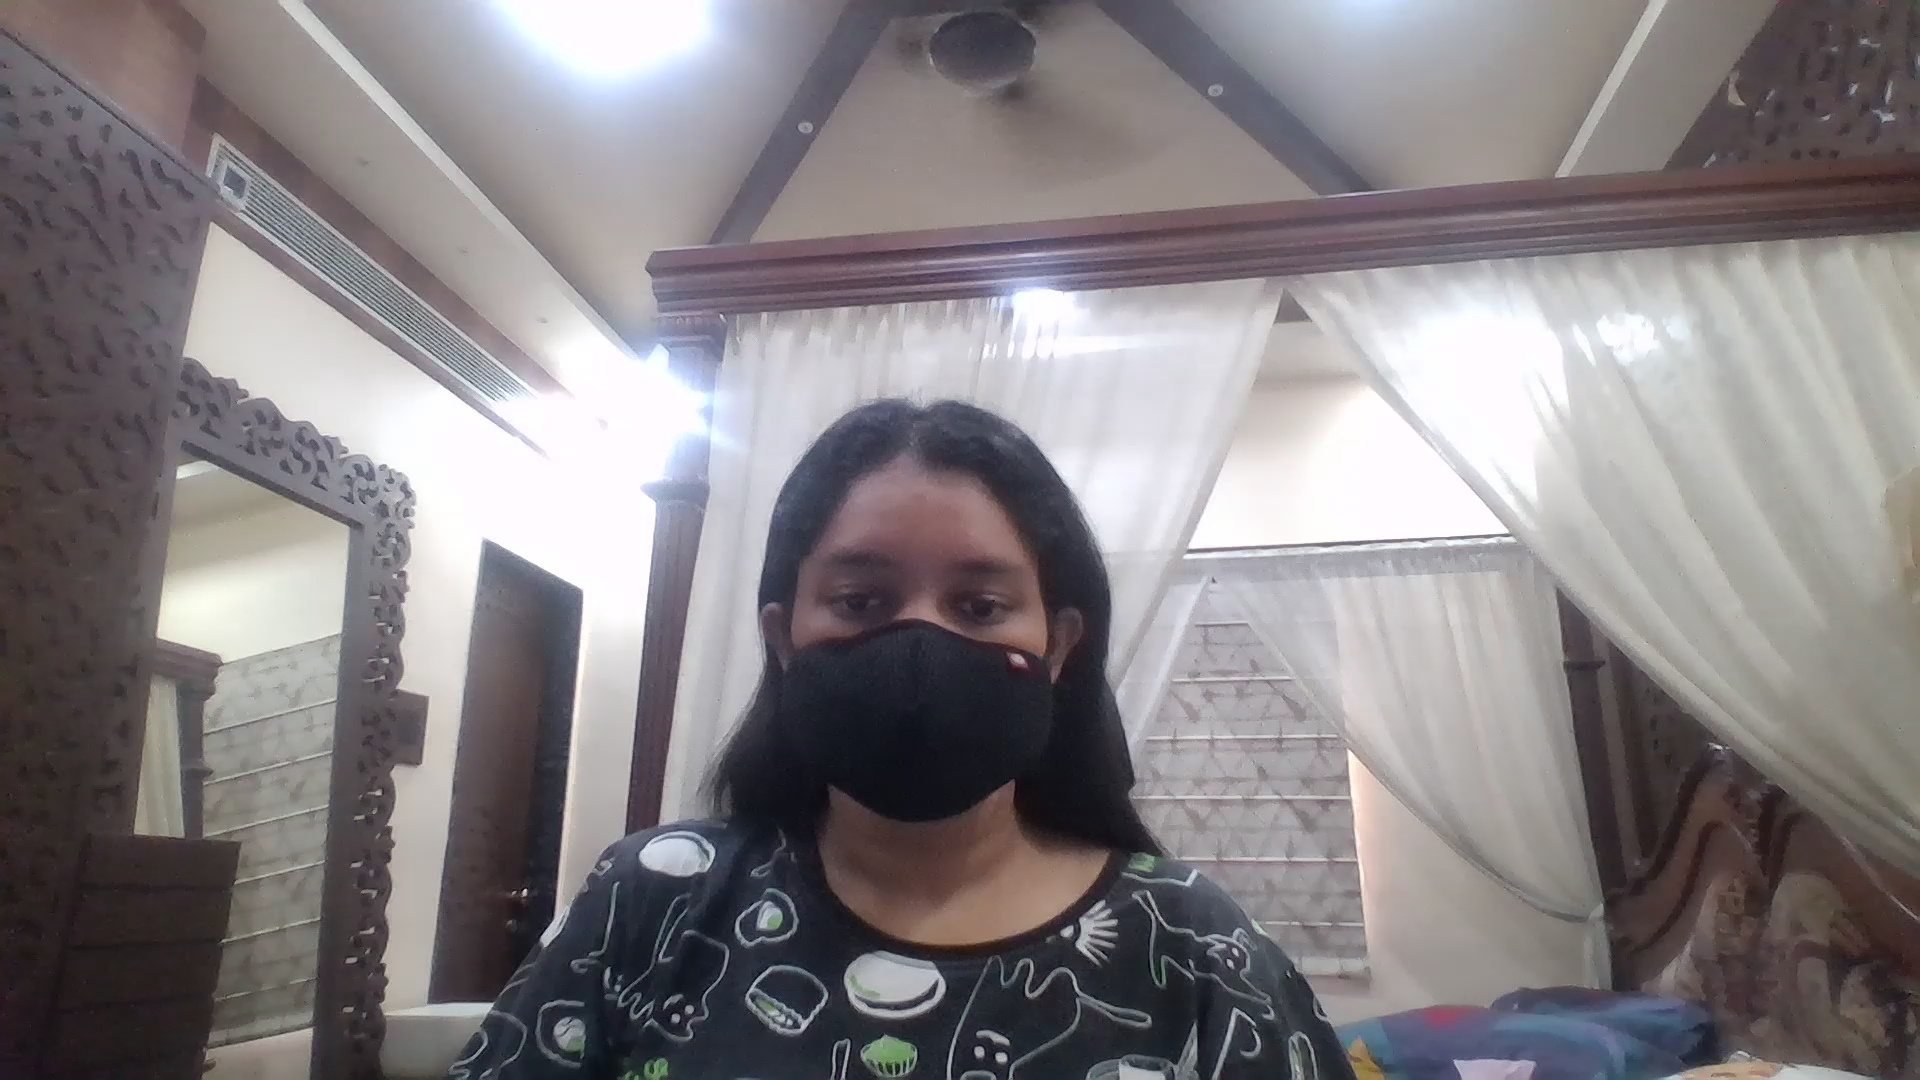Mask: (767, 628, 1059, 833)
